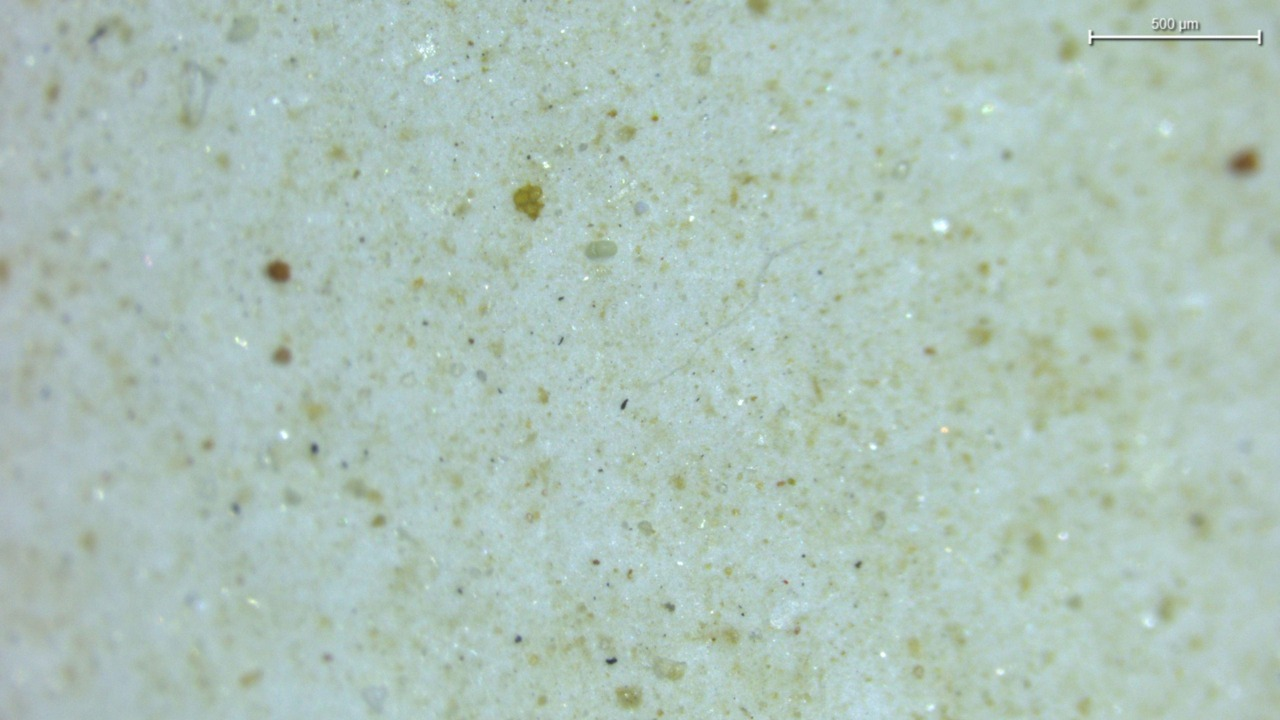microplastic_fragment: (585, 240, 617, 258)
